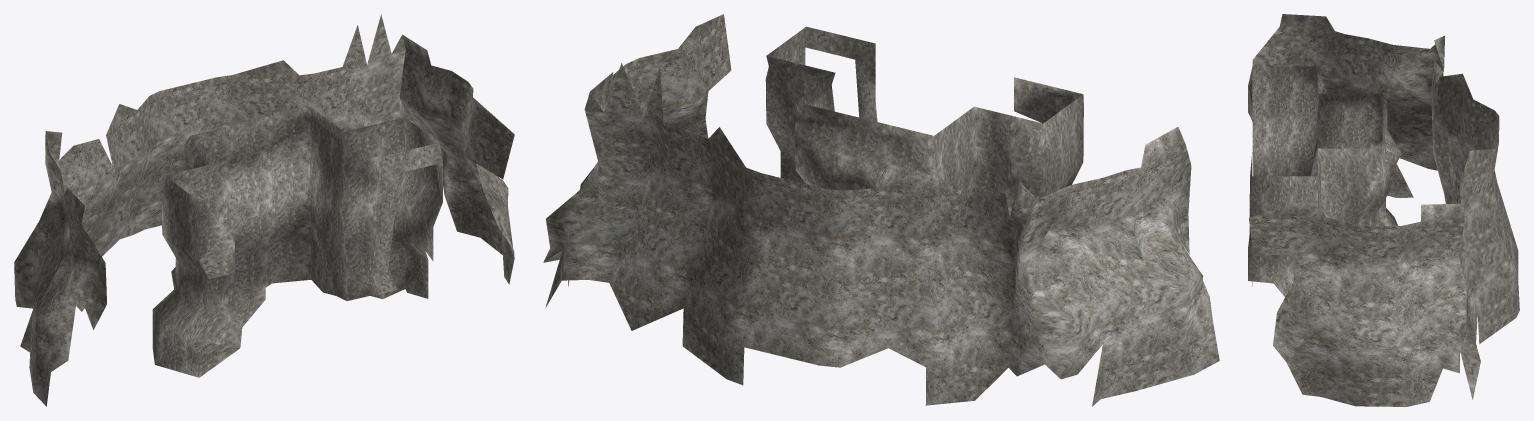
Rendered from DWARF_PALACE_FORGE_CAVEC02.fbx.
3 renders of one model, left to right at view 1: azimuth 30°, elevation 25°; view 2: azimuth 150°, elevation 25°; view 3: azimuth 270°, elevation 25°, orthographic. The views are drawn at different scales.
Parts seen in each view (by area): view 1: DWARF_PALACE_FORGE_CAVEC02; view 2: DWARF_PALACE_FORGE_CAVEC02; view 3: DWARF_PALACE_FORGE_CAVEC02.
Boxes of the visible parts, x1,y1,x2,y2 form: DWARF_PALACE_FORGE_CAVEC02: (14, 14, 514, 406); DWARF_PALACE_FORGE_CAVEC02: (543, 14, 1219, 406); DWARF_PALACE_FORGE_CAVEC02: (1248, 14, 1519, 406).
Bounding box in the file's own units: 830519 × 352801 × 417420.
1 material, 1 textured.
